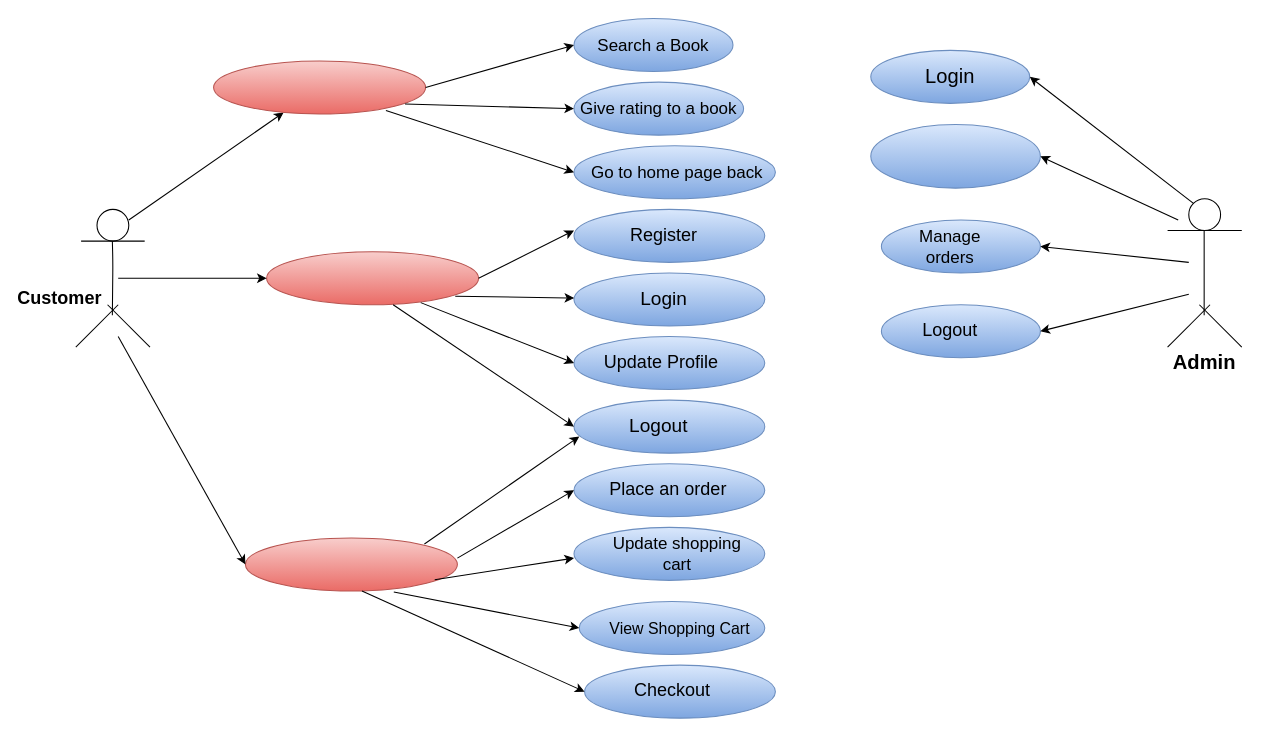
This 1276x737 diagram has some shape labels left out. Here are the shapes that lost their labels. From the top down, the centre of each, then its label:
At (319,87): "Browse Home Page".
At (955,155): "Add or Delete Books".
At (372,278): "Maintain Account".
At (350,564): "Manage Shopping Cart".
